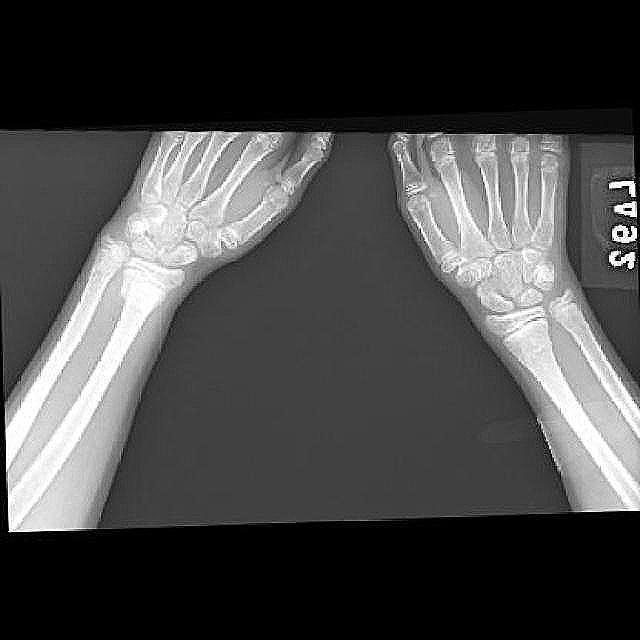bone: (117, 274, 168, 314), (517, 338, 554, 364), (558, 319, 592, 333), (84, 264, 112, 278)
